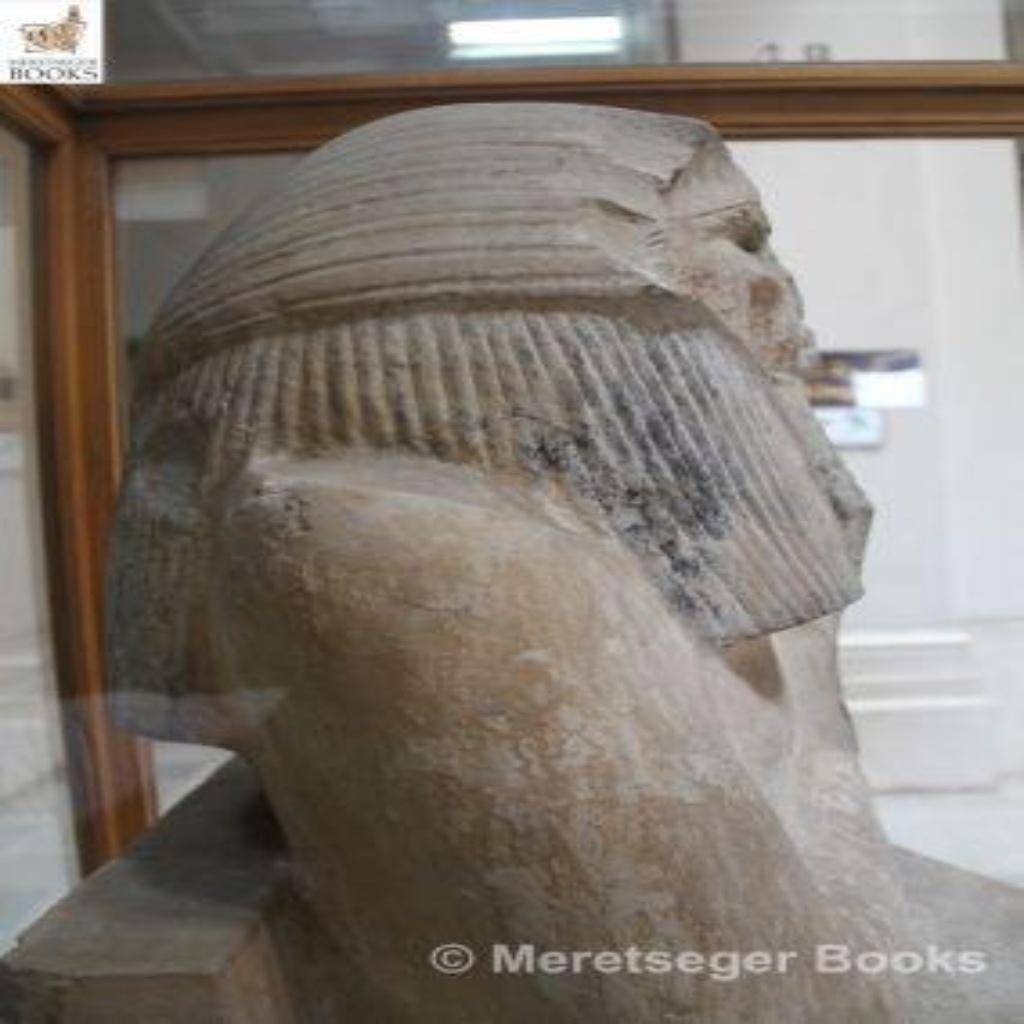Statue of King Zoser: (72, 96, 1020, 1022)
